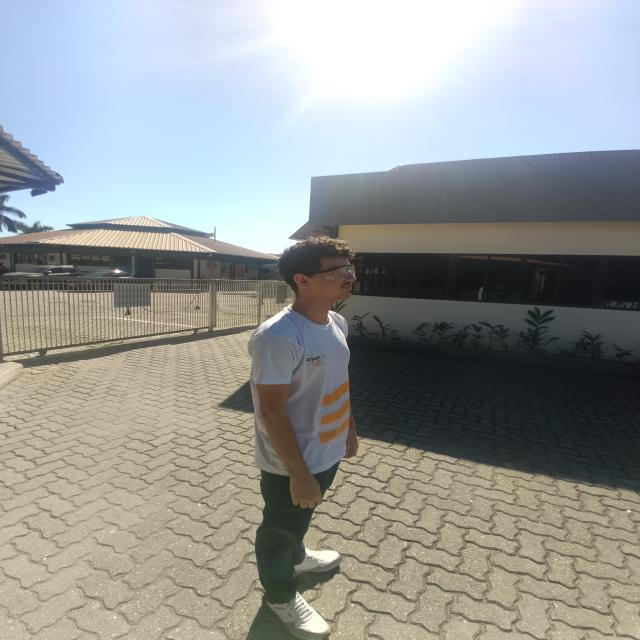oculos-epi: (303, 264, 355, 281)
